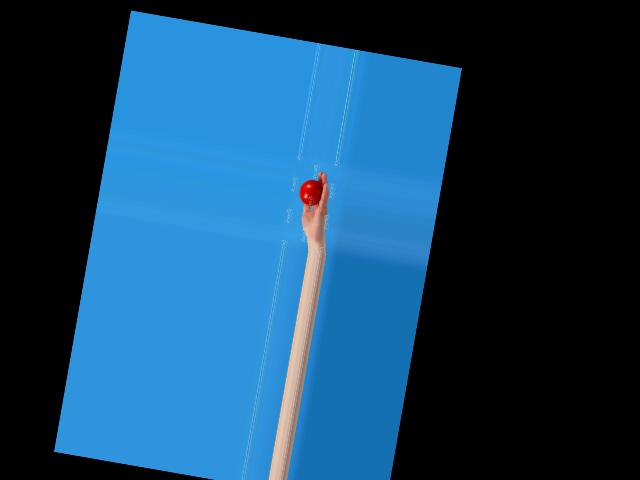tomato: (298, 178, 323, 207)
